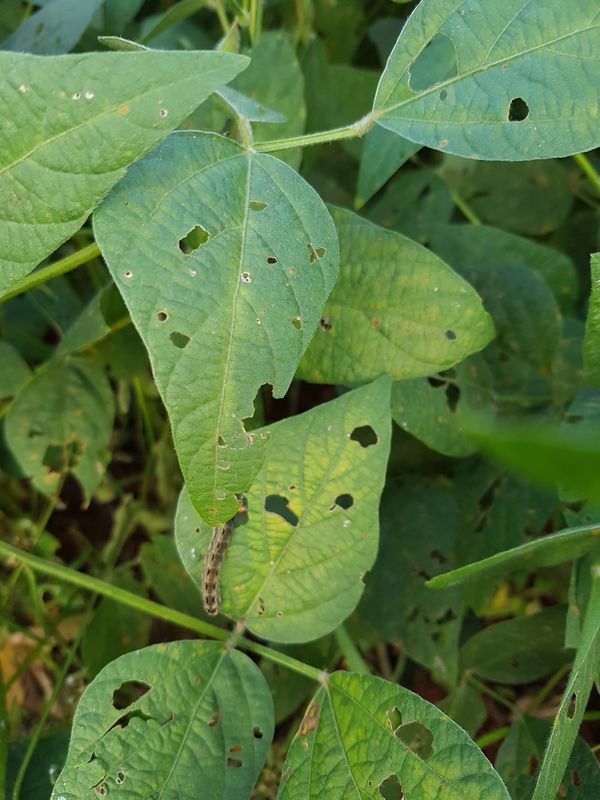Spodoptera_albula: (189, 486, 263, 624)
